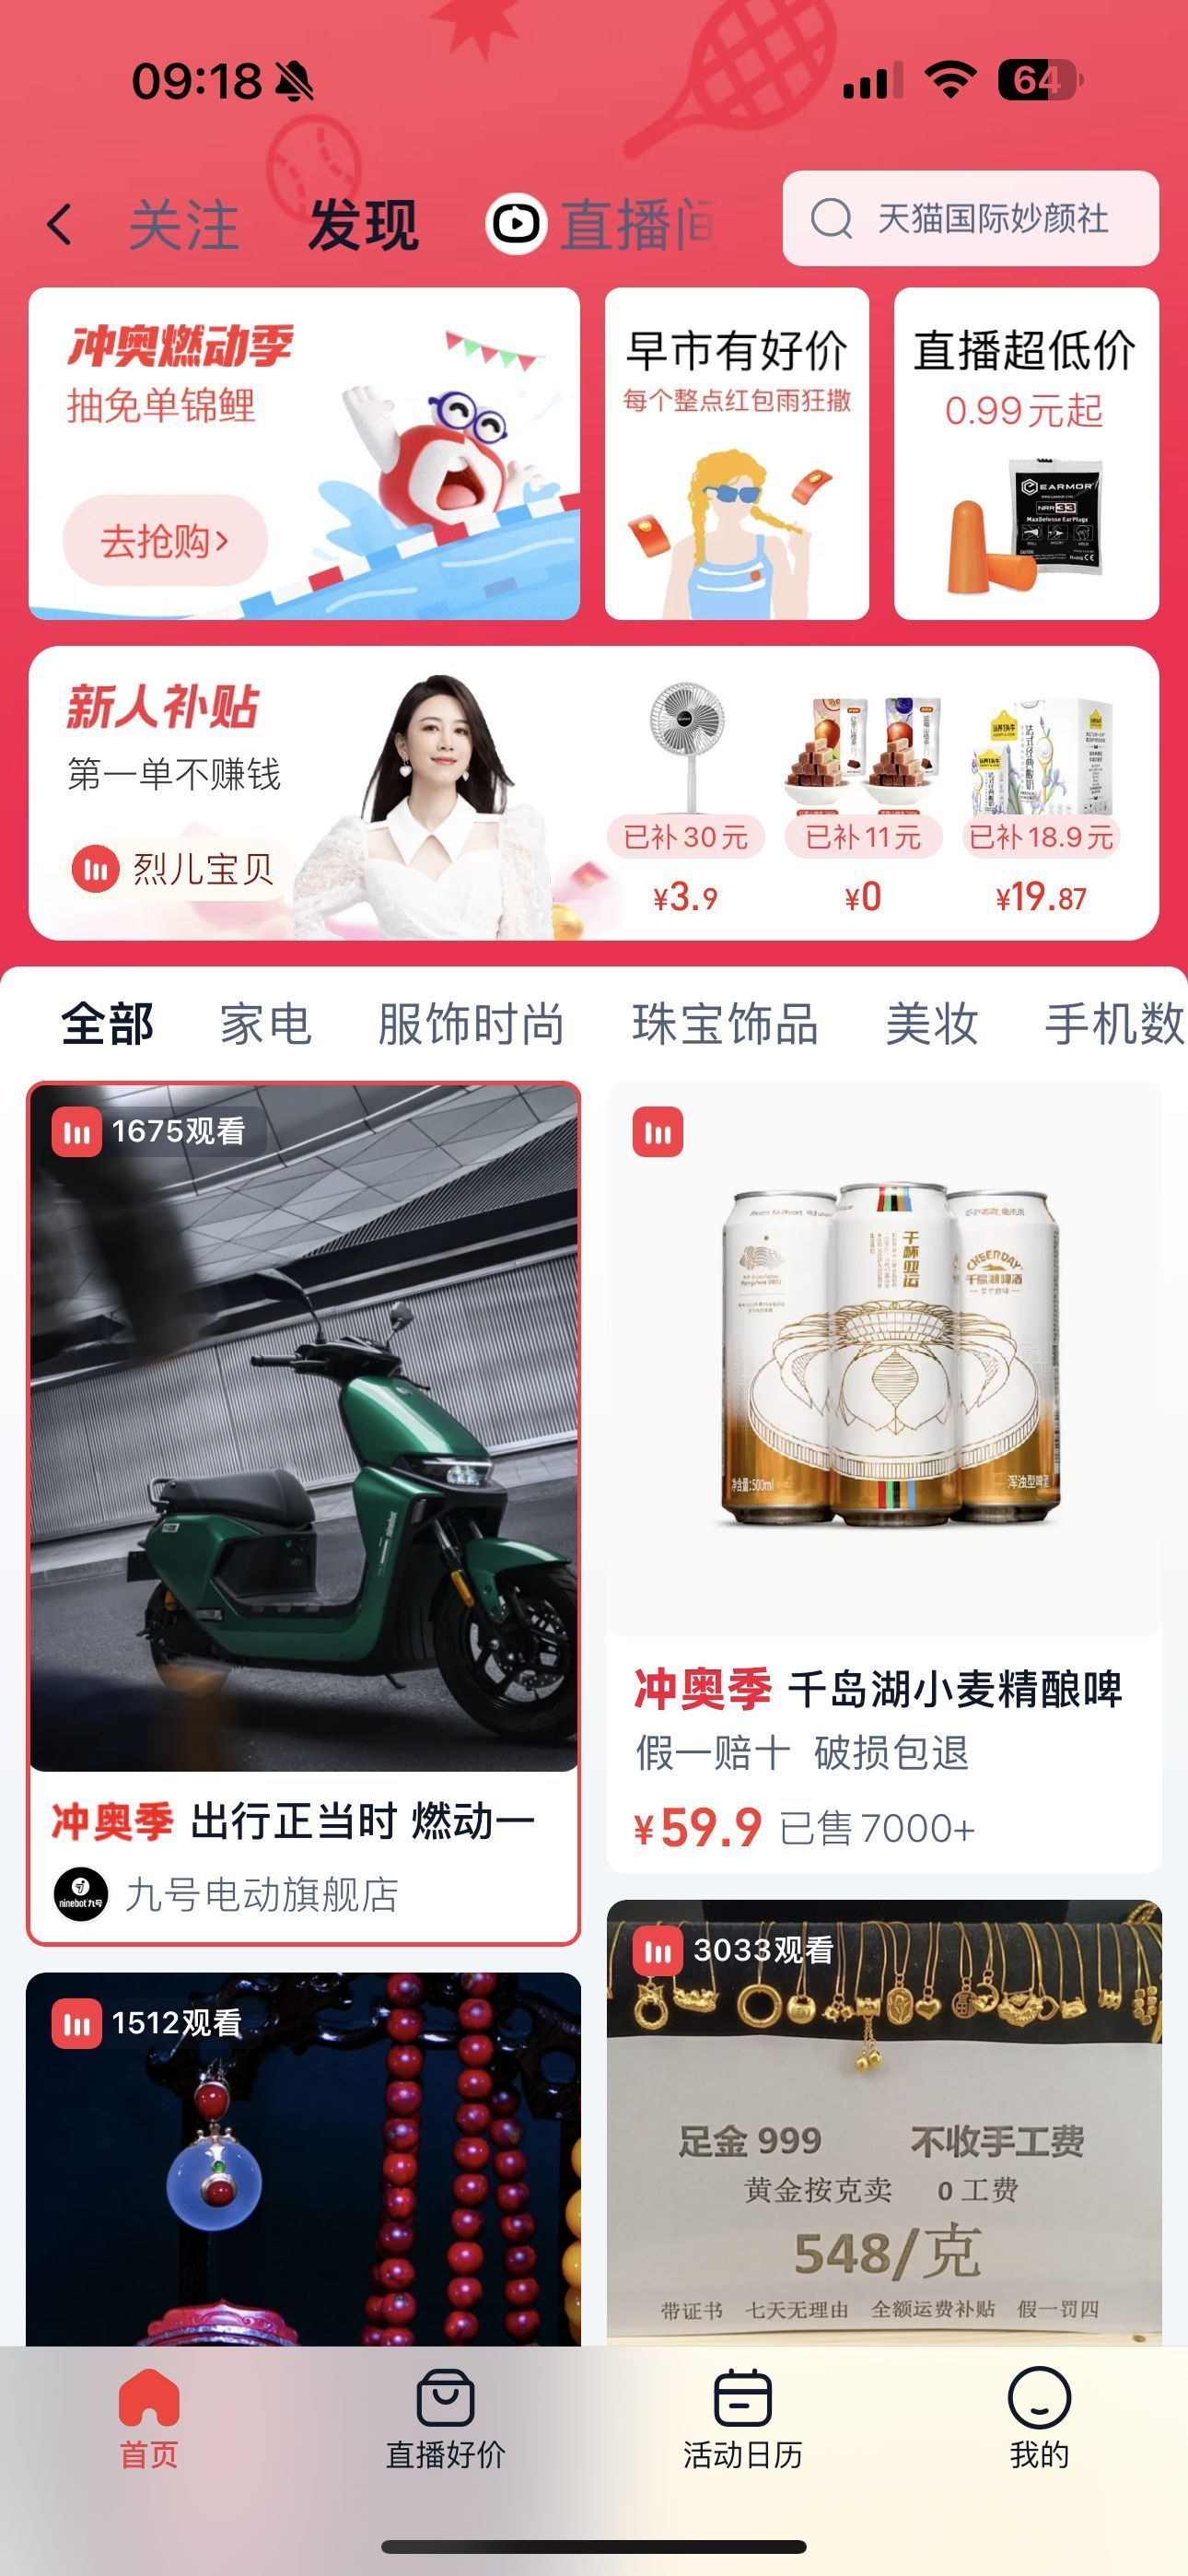item: (12, 1058, 600, 1968), (608, 1056, 1178, 1891)
op_bar: (12, 172, 1172, 287)
seckill: (12, 623, 1183, 956)
